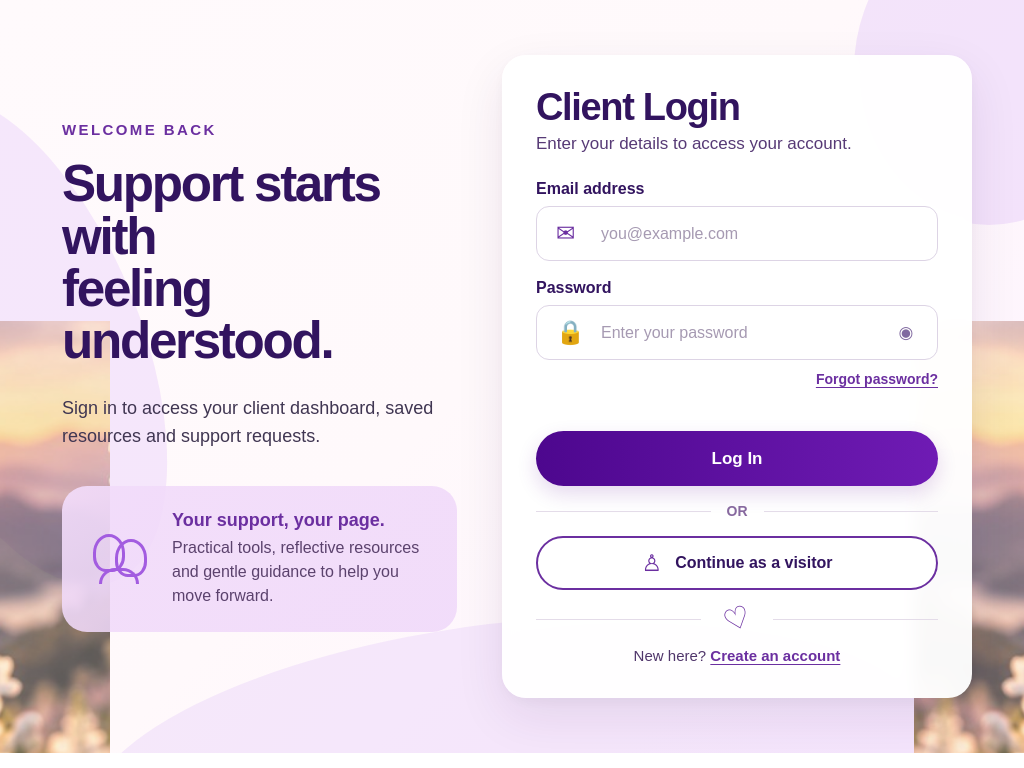
Test: Client Login page › shows error and saves no token when credentials are wrong
Type "jane@mail.com" into the field labelled "Email address" at (737, 234), box left=536, top=206, right=938, bottom=261
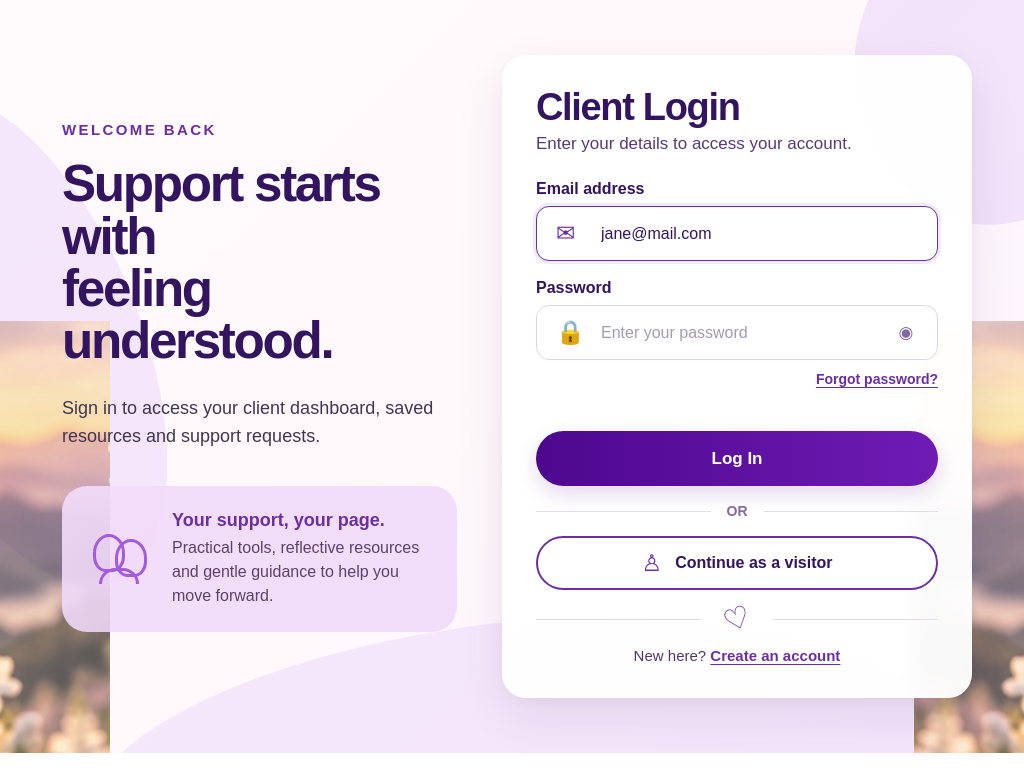
Type "wrong" into the password field labelled "Password" at (737, 333), box left=536, top=305, right=938, bottom=360
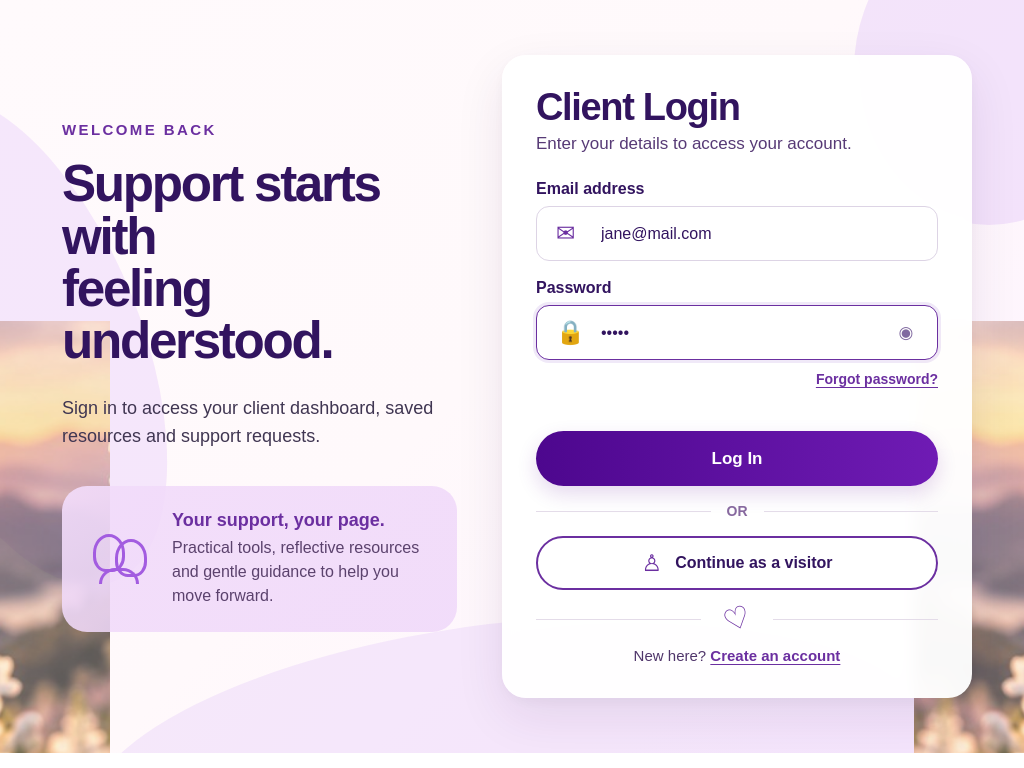
Click the button "Log In" at (737, 459), box left=536, top=431, right=938, bottom=486
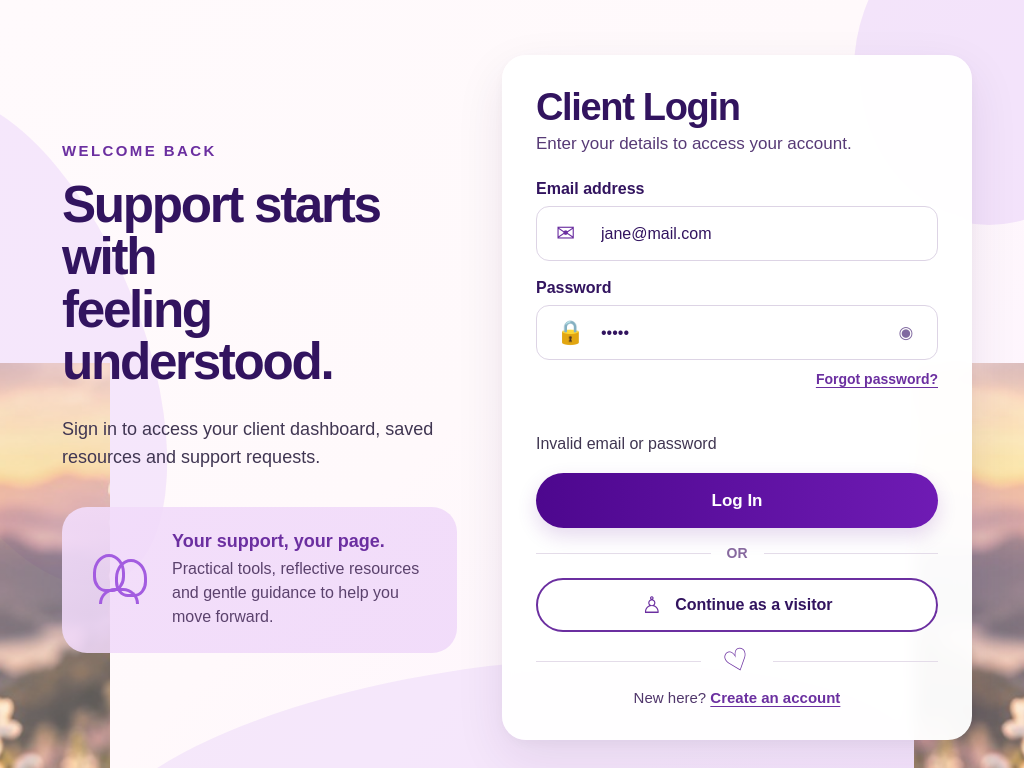
Expected: the text "Invalid email or password" is shown, left=536, top=435, right=716, bottom=452
